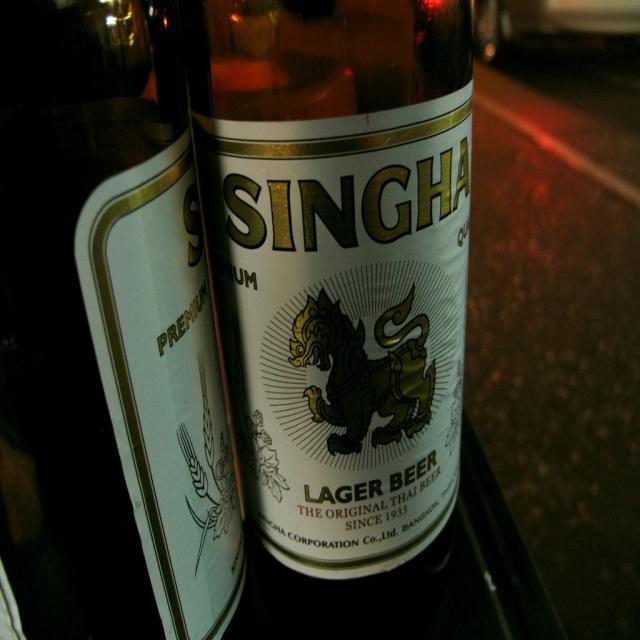singha: (209, 99, 474, 568), (93, 145, 248, 640)
